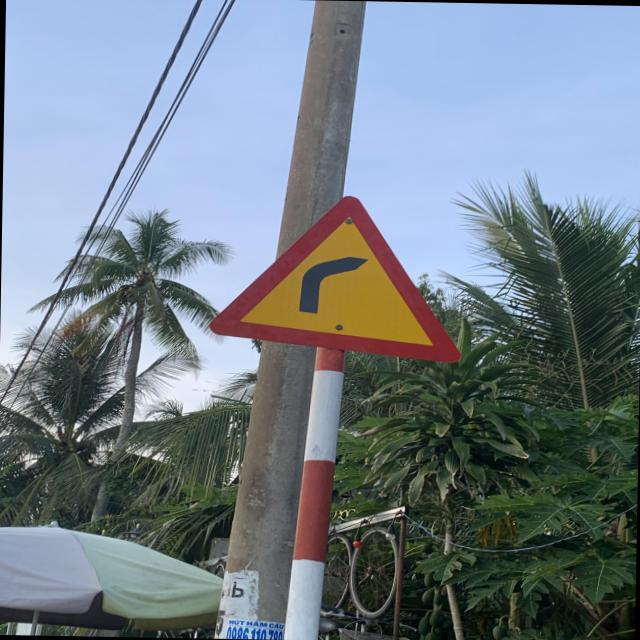Duong_Nguoi_Di_Bo_Cat_Ngang: (212, 189, 465, 363)
